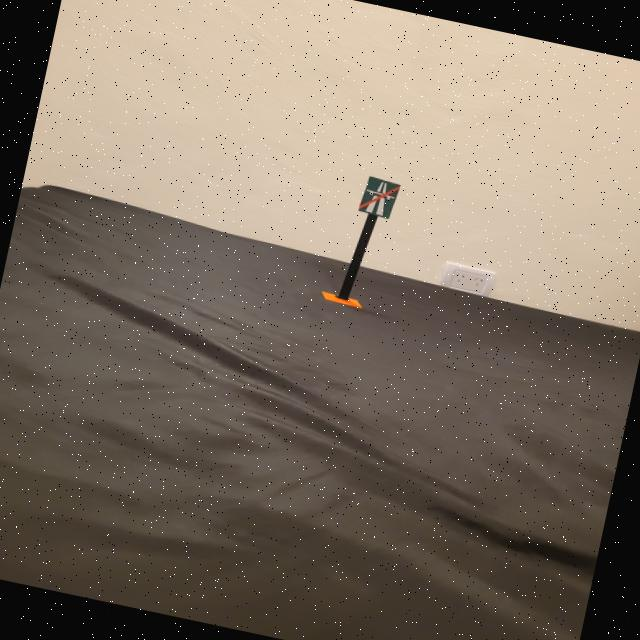highway_exit: (356, 173, 402, 220)
